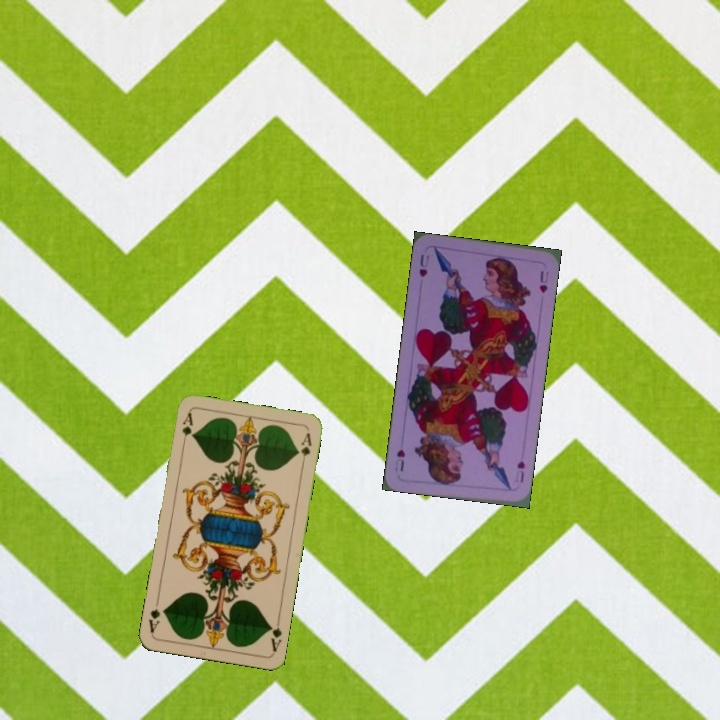GA: (265, 614, 284, 655), (178, 409, 196, 448)
HU: (415, 250, 432, 279), (513, 457, 527, 485)
